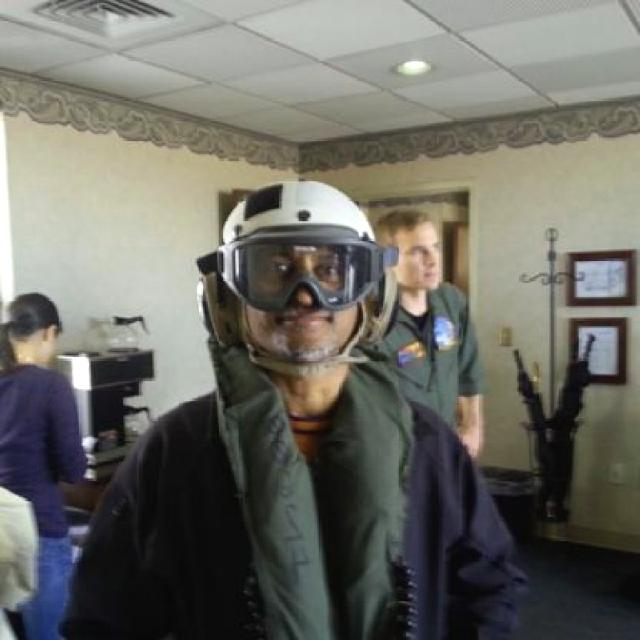face_nomask: (252, 242, 356, 340), (408, 230, 443, 288)
glasses: (218, 231, 384, 312)
head_helmet: (212, 174, 388, 251)
head_nohelmet: (384, 200, 436, 234)
person: (71, 198, 504, 640)
